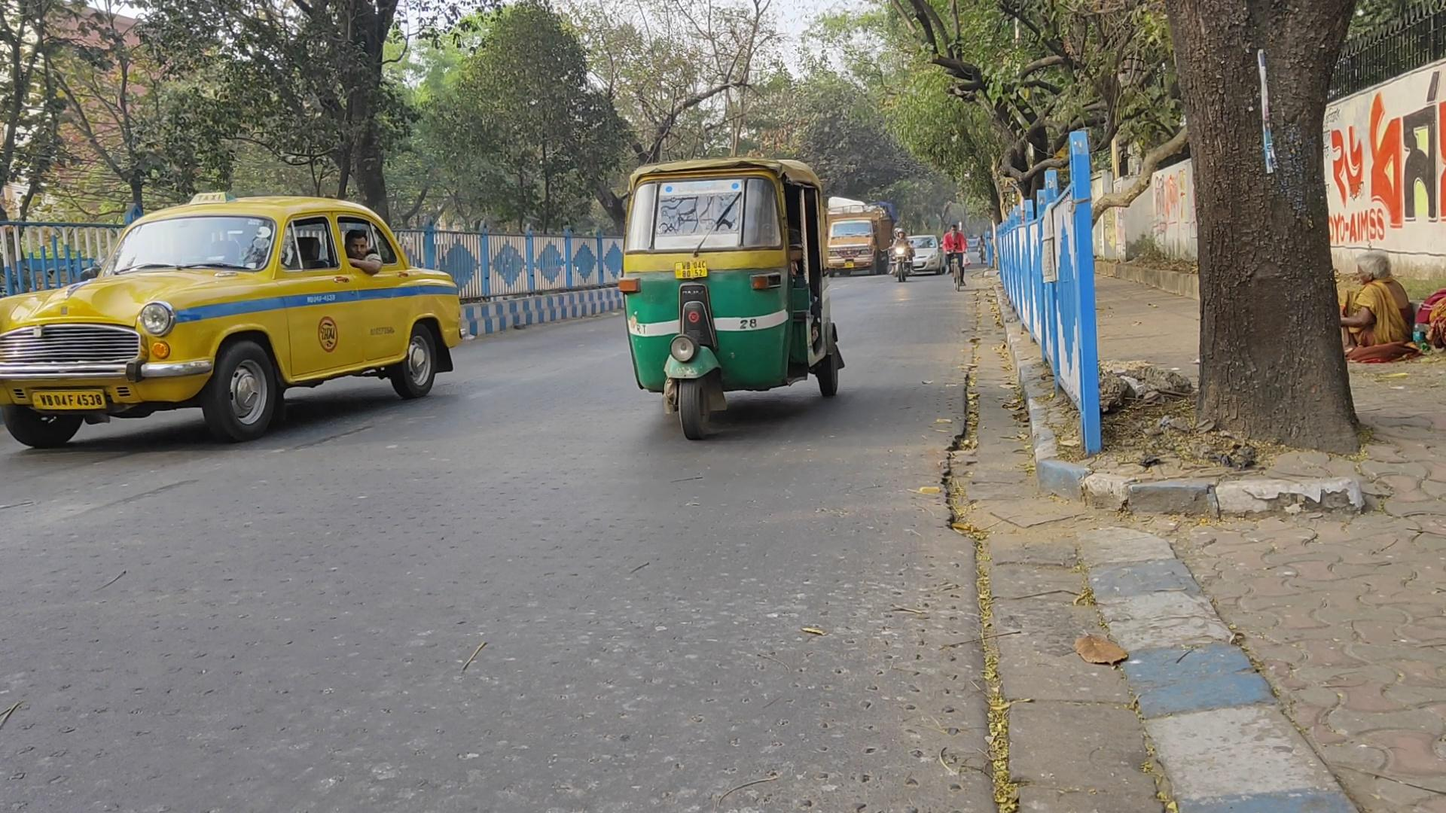Auto: (618, 155, 841, 440)
bike: (942, 224, 968, 292), (887, 226, 916, 282)
car: (1, 190, 463, 448), (901, 235, 948, 277)
truck: (827, 201, 889, 278)
